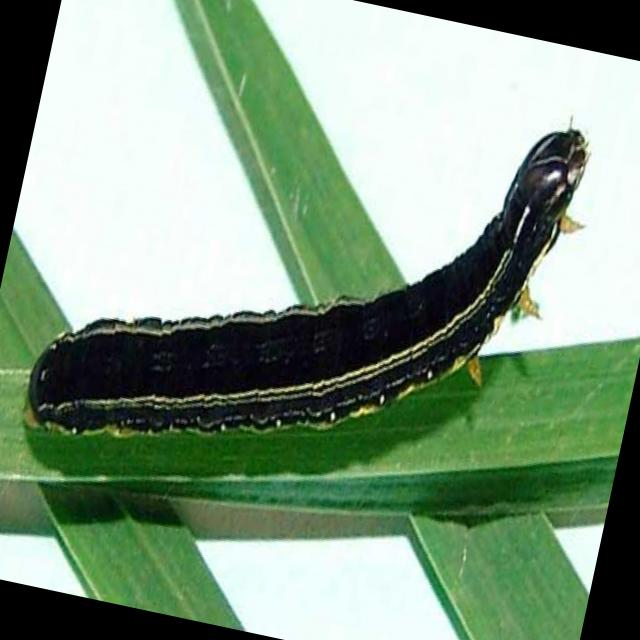armyworm: (1, 1, 617, 550)
